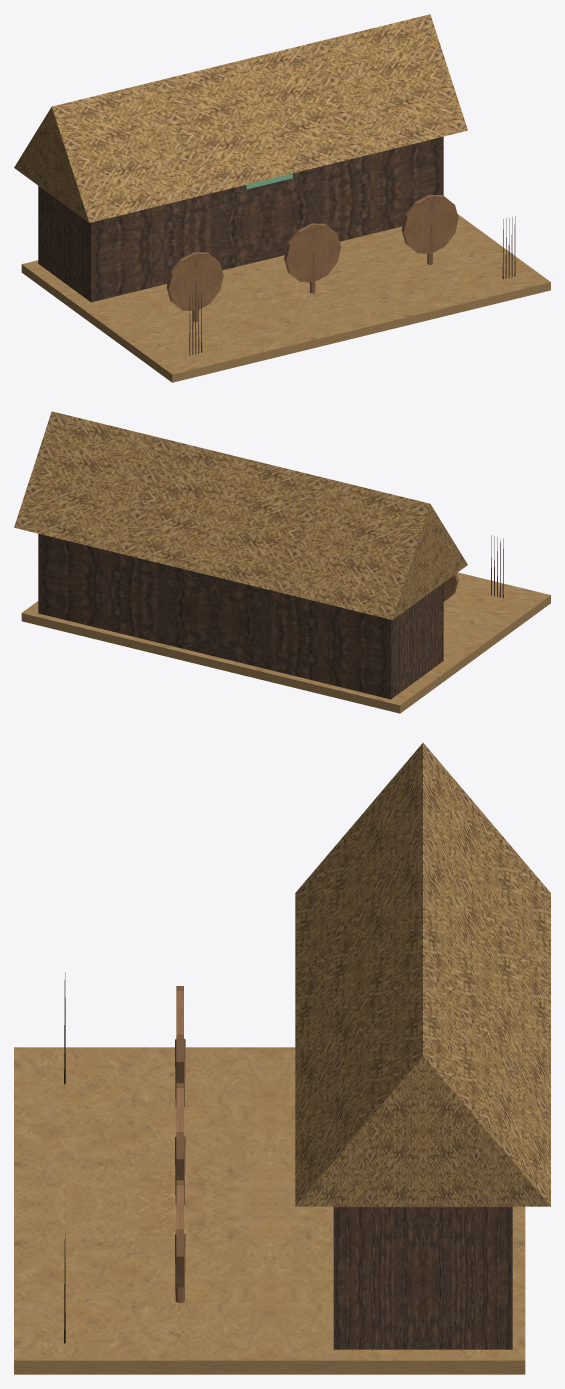
Rendered from edificio-b_000-e0-B4X4hFuD.glb.
The picture shows the model from 3 angles, top to bottom: view 1: azimuth 30°, elevation 25°; view 2: azimuth 150°, elevation 25°; view 3: azimuth 270°, elevation 25°; orthographic projection. The views are drawn at different scales.
Parts seen in each view (by area): view 1: edificio-b_000-e0_envolvente, edificio-b_000-e0_detalles; view 2: edificio-b_000-e0_detalles, edificio-b_000-e0_envolvente; view 3: edificio-b_000-e0_envolvente, edificio-b_000-e0_detalles.
Boxes of the visible parts, <box> form: edificio-b_000-e0_envolvente: <box>21,136,550,382</box>; edificio-b_000-e0_detalles: <box>14,14,515,355</box>; edificio-b_000-e0_detalles: <box>14,411,503,619</box>; edificio-b_000-e0_envolvente: <box>21,533,550,713</box>; edificio-b_000-e0_envolvente: <box>14,1047,525,1374</box>; edificio-b_000-e0_detalles: <box>64,742,550,1343</box>.
Bounding box in the file's own units: 58 × 27.5 × 42.
Materials: 3 (2 with a texture image).
